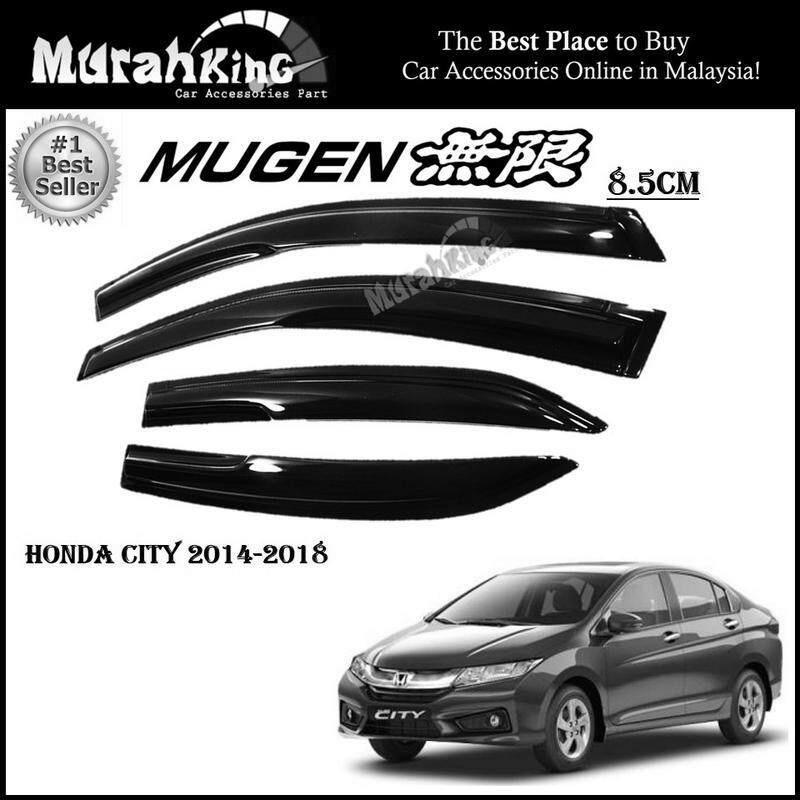Car hood: (354, 616, 585, 676)
Fender - -F-L-: (549, 619, 613, 742)
Fender - -R-L-: (728, 590, 781, 703), (763, 616, 782, 640)
Front bumper: (339, 676, 561, 752)
Headlight - -L-: (452, 655, 546, 693)
Headlight - -R-: (340, 653, 377, 679)
Passenger-s door - -F-L-: (593, 556, 691, 748)
Passenger-s door - -R-L-: (665, 546, 755, 751)
Side bumper - -L-: (604, 687, 745, 757)
Side mirror - -L-: (594, 606, 644, 650)
